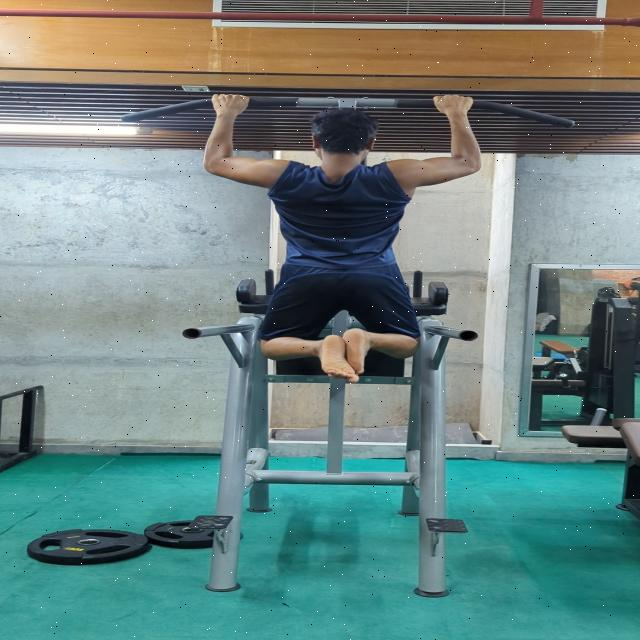Normal_PullUps: (190, 80, 505, 392)
